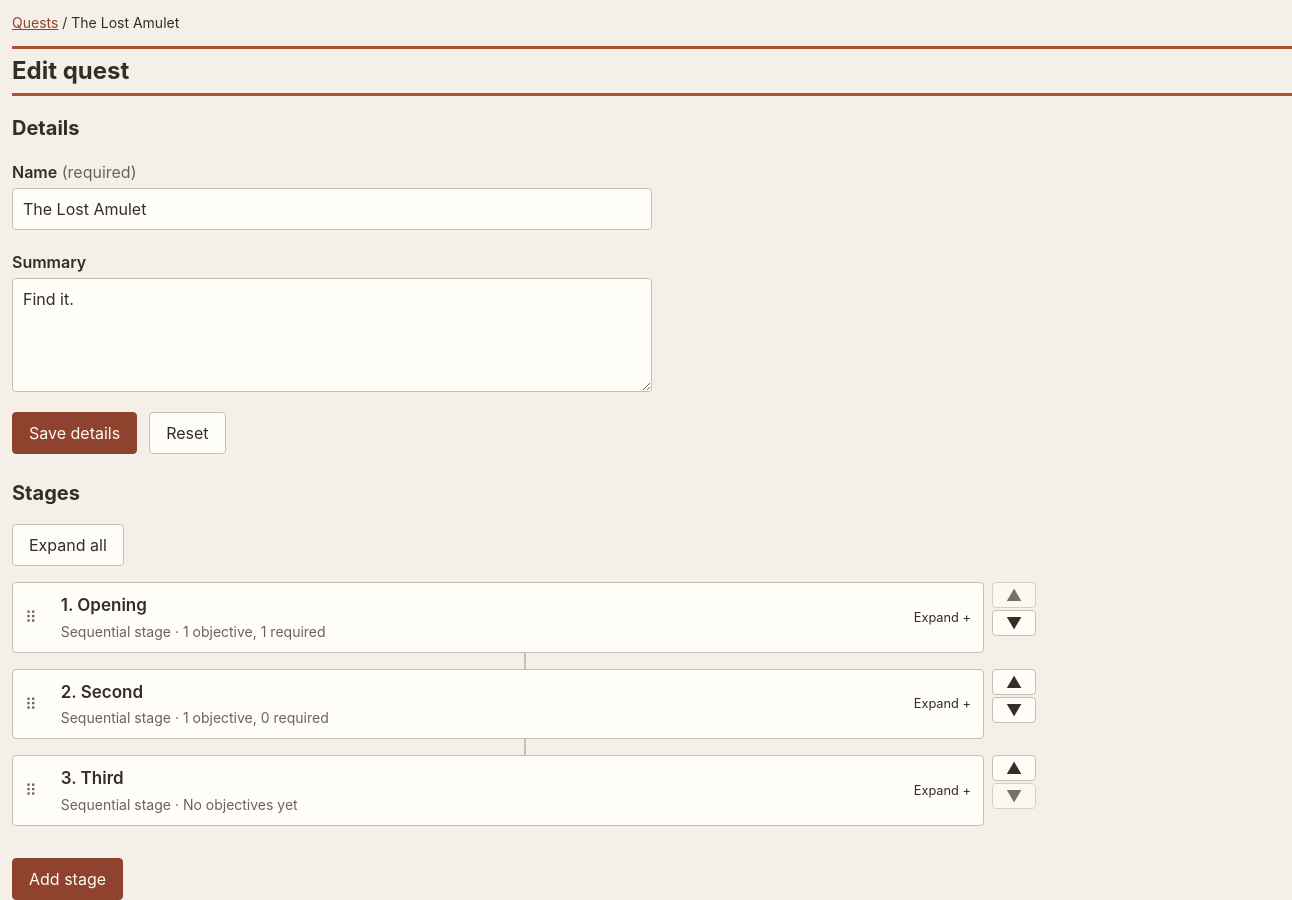
Quest stage cards › follows the stale-write path when the order changed elsewhere
Click the button named "Move down Opening". click: (1014,623)
box: top-left (992, 610), bottom-right (1036, 636)
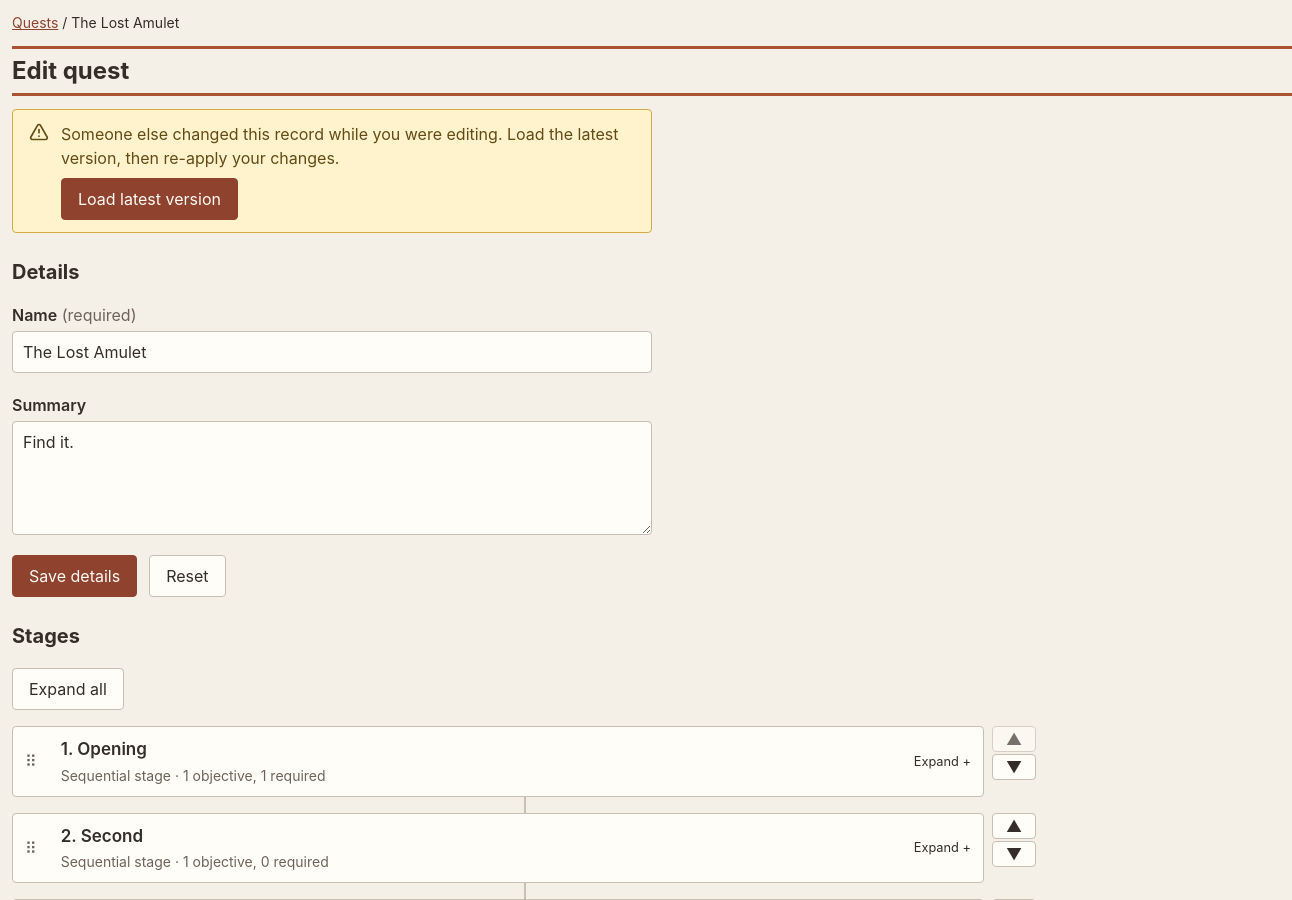
Expected: the message shows "Someone else changed this record", top-left (61, 124), bottom-right (618, 168)
Expected: the button "Load latest version" is shown, top-left (61, 178), bottom-right (238, 220)
